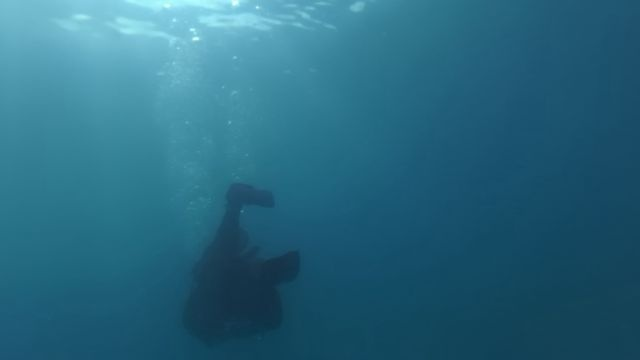Diver: (181, 184, 301, 341)
